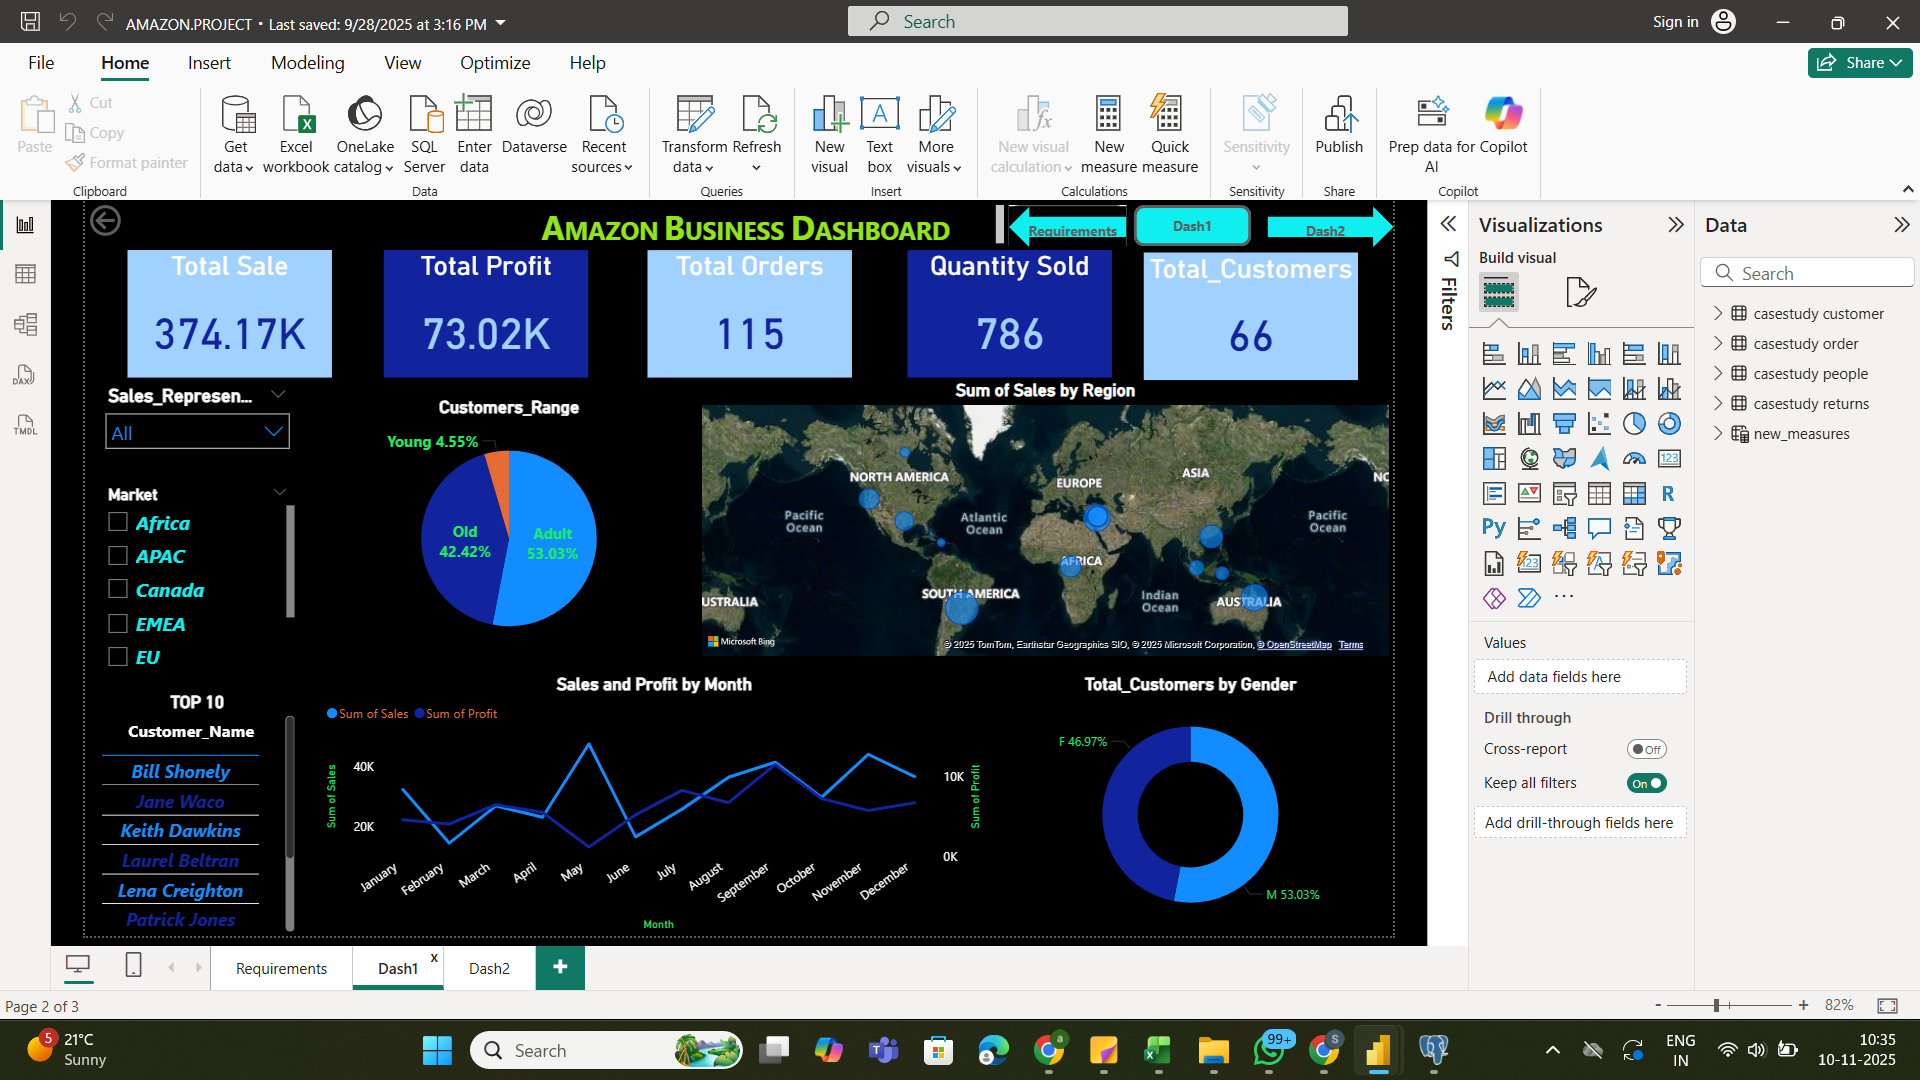

What the dashboard file says about the page in this screenshot:
{"tool":"powerbi","page":{"name":"Dash1","canvas":[1280,720],"ordinal":1},"visuals":[{"type":"card","title":"Total Sale","fields":{"Values":["casestudy order.Sales"]},"box":[41.2,49.4,200.3,124.9],"z":0},{"type":"card","title":"Quantity Sold","fields":{"Values":["casestudy order.Quantity"]},"box":[804.1,49.4,200.3,124.9],"z":1000},{"type":"card","title":"Total Orders","fields":{"Values":["casestudy order.Order_ID"]},"box":[550.3,49.4,200.3,124.9],"z":2000},{"type":"card","title":"Total Profit","fields":{"Values":["casestudy order.Profit"]},"box":[292.3,49.4,200.3,124.9],"z":3000},{"type":"pieChart","title":"Customers_Range","fields":{"Y":["casestudy customer.Customer_ID"],"Category":["casestudy customer.Age_Category"]},"box":[230.5,192.1,367.8,259.3],"z":4000},{"type":"map","fields":{"Size":["casestudy order.Sales"],"Category":["casestudy order.Region"]},"box":[599.2,176.1,681.1,275.1],"z":5000},{"type":"card","title":"Total_Customers","fields":{"Values":["casestudy customer.Customer_ID"]},"box":[1036,50.8,209.9,124.9],"z":6000},{"type":"slicer","fields":{"Values":["casestudy order.Market"]},"box":[9.6,274.4,200.3,189.4],"z":7000},{"type":"lineChart","title":"Sales and Profit by Month","fields":{"Category":["casestudy order.Order_Date.Variation.Date Hierarchy.Month"],"Y":["casestudy order.Sales"],"Y2":["casestudy order.Profit"]},"box":[231.1,463.5,651.8,256.8],"z":8000},{"type":"donutChart","title":"Total_Customers by Gender","fields":{"Category":["casestudy customer.Gender"],"Y":["casestudy customer.Customer_ID"]},"box":[882.9,463.5,397.4,256.8],"z":9000},{"type":"tableEx","title":"TOP 10","fields":{"Values":["casestudy customer.Customer_Name"]},"box":[10,480,200,240],"z":10000},{"type":"slicer","fields":{"Values":["casestudy people.Person"]},"box":[10,176.2,200,92.5],"z":11000},{"type":"actionButton","box":[0,0,100,40],"z":12000},{"type":"textbox","box":[397.4,0,506.3,50.1],"z":13000},{"type":"actionButton","box":[903.7,4.9,114.9,40.4],"z":14000},{"type":"actionButton","box":[1026,4.9,114.9,40.4],"z":15000},{"type":"actionButton","box":[1156.8,6.1,123.5,40.4],"z":16000},{"type":"actionButton","box":[903.7,6.1,114.9,40.4],"z":17000}]}

Visuals, with their boxes on the page's 1280x720 design canvas (x1, y1, x2, y2). These are canvas units, not pixel positions in the 1920x1080 screenshot, which may show the page scaled, cropped or inside an application window:
"Total Sale" card: <box>41,49,242,174</box>
"Quantity Sold" card: <box>804,49,1004,174</box>
"Total Orders" card: <box>550,49,751,174</box>
"Total Profit" card: <box>292,49,493,174</box>
"Customers_Range" pieChart: <box>230,192,598,451</box>
map - casestudy order.Sales x casestudy order.Region: <box>599,176,1280,451</box>
"Total_Customers" card: <box>1036,51,1246,176</box>
slicer - casestudy order.Market: <box>10,274,210,464</box>
"Sales and Profit by Month" lineChart: <box>231,464,883,720</box>
"Total_Customers by Gender" donutChart: <box>883,464,1280,720</box>
"TOP 10" tableEx: <box>10,480,210,720</box>
slicer - casestudy people.Person: <box>10,176,210,269</box>
actionButton: <box>0,0,100,40</box>
textbox: <box>397,0,904,50</box>
actionButton: <box>904,5,1019,45</box>
actionButton: <box>1026,5,1141,45</box>
actionButton: <box>1157,6,1280,46</box>
actionButton: <box>904,6,1019,46</box>
